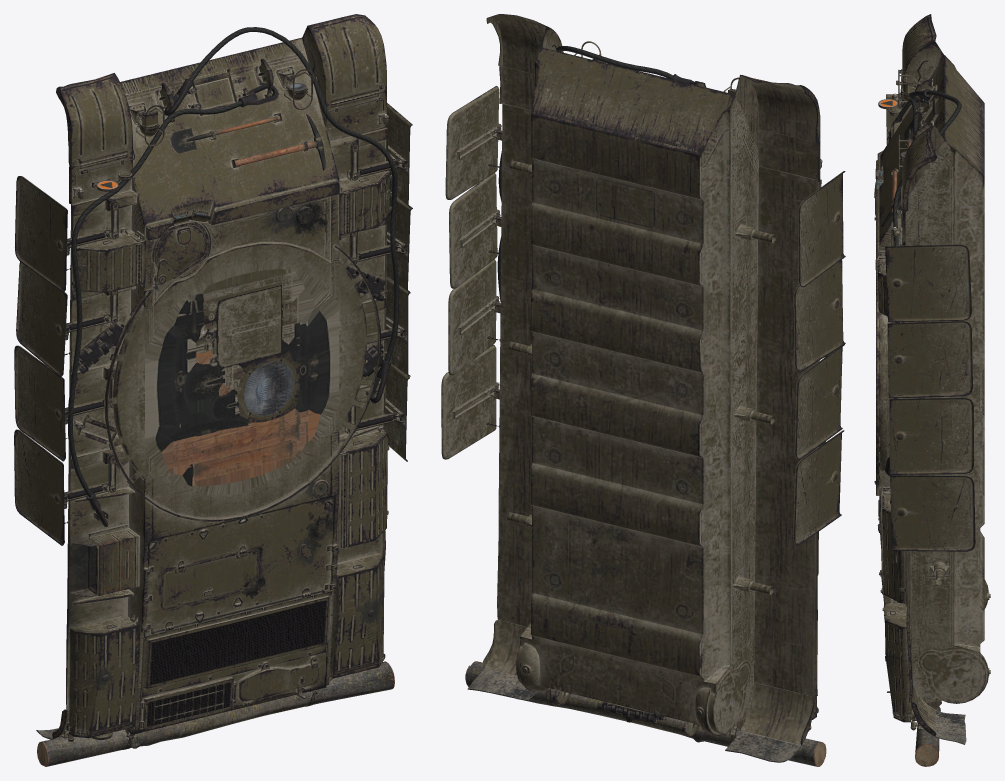
The model's file is Hull.glb.
3 views of the same model, side by side, from view 1: azimuth 30°, elevation 25°; view 2: azimuth 150°, elevation 25°; view 3: azimuth 270°, elevation 25° (orthographic). The views are drawn at different scales.
Parts seen in each view (by area): view 1: set_0_group_0, set_0_group_1; view 2: set_0_group_0, set_0_group_1; view 3: set_0_group_0, set_0_group_1.
Part boxes in pixels (x1=…): set_0_group_0: x1=14, y1=14, x2=412, y2=749; set_0_group_1: x1=37, y1=27, x2=399, y2=766; set_0_group_0: x1=441, y1=14, x2=845, y2=762; set_0_group_1: x1=465, y1=46, x2=828, y2=766; set_0_group_0: x1=874, y1=14, x2=990, y2=744; set_0_group_1: x1=885, y1=89, x2=961, y2=766.
Size of the model in its own units: 3.71 by 6.8 by 1.18.
2 materials, 2 textured.
